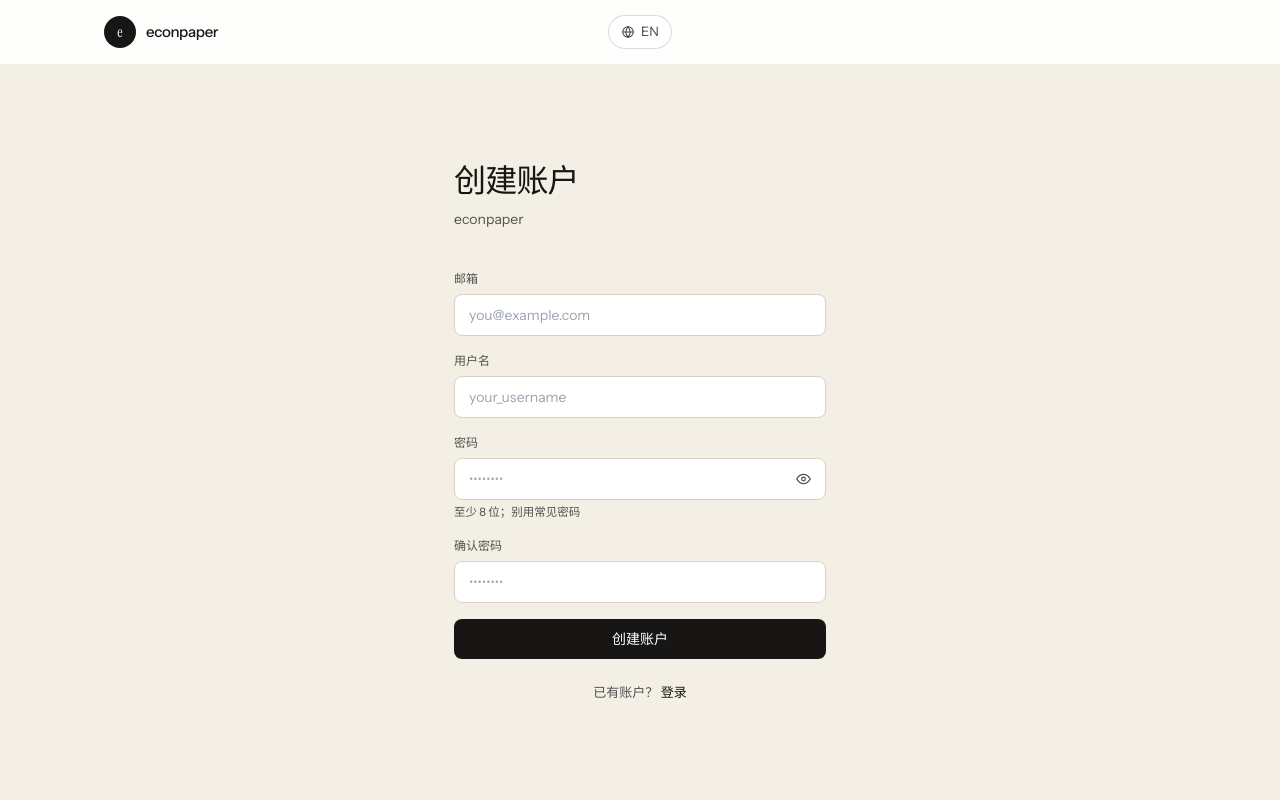
Scenario: RegisterPage › validates password match before submitting
Type "test@example.com" into the field labelled "邮箱" at (640, 315), box [454,294,826,336]
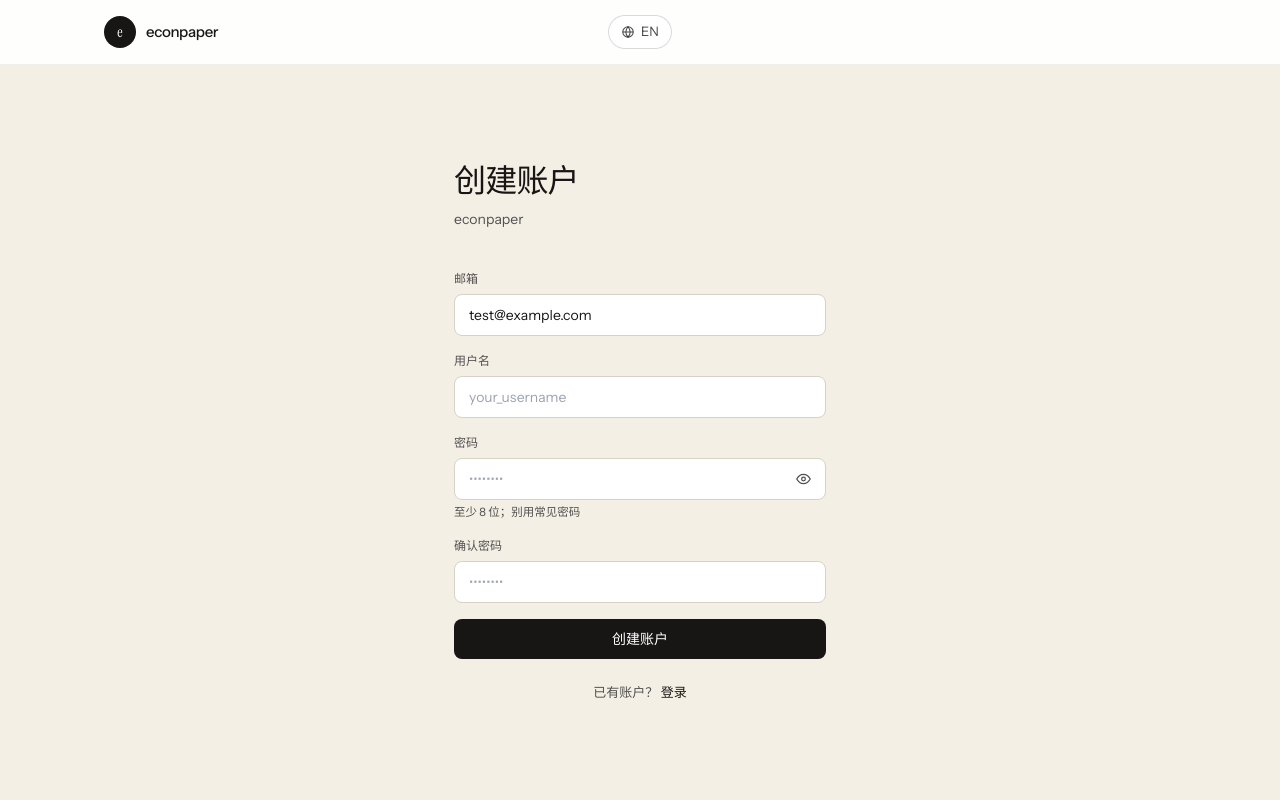
Type "testuser" into the field labelled "用户名" at (640, 397), box [454,376,826,418]
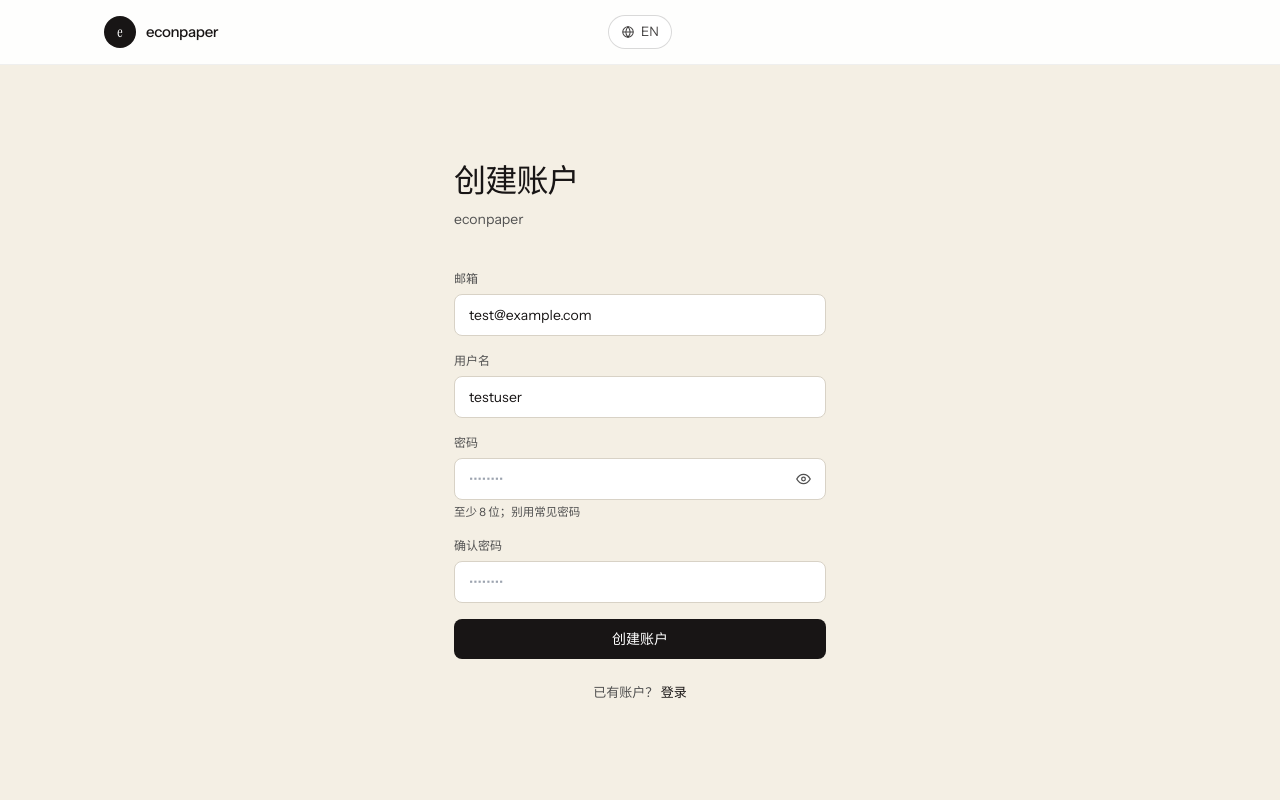
Type "secret123" into the password field labelled "密码" at (640, 479), box [454,458,826,500]
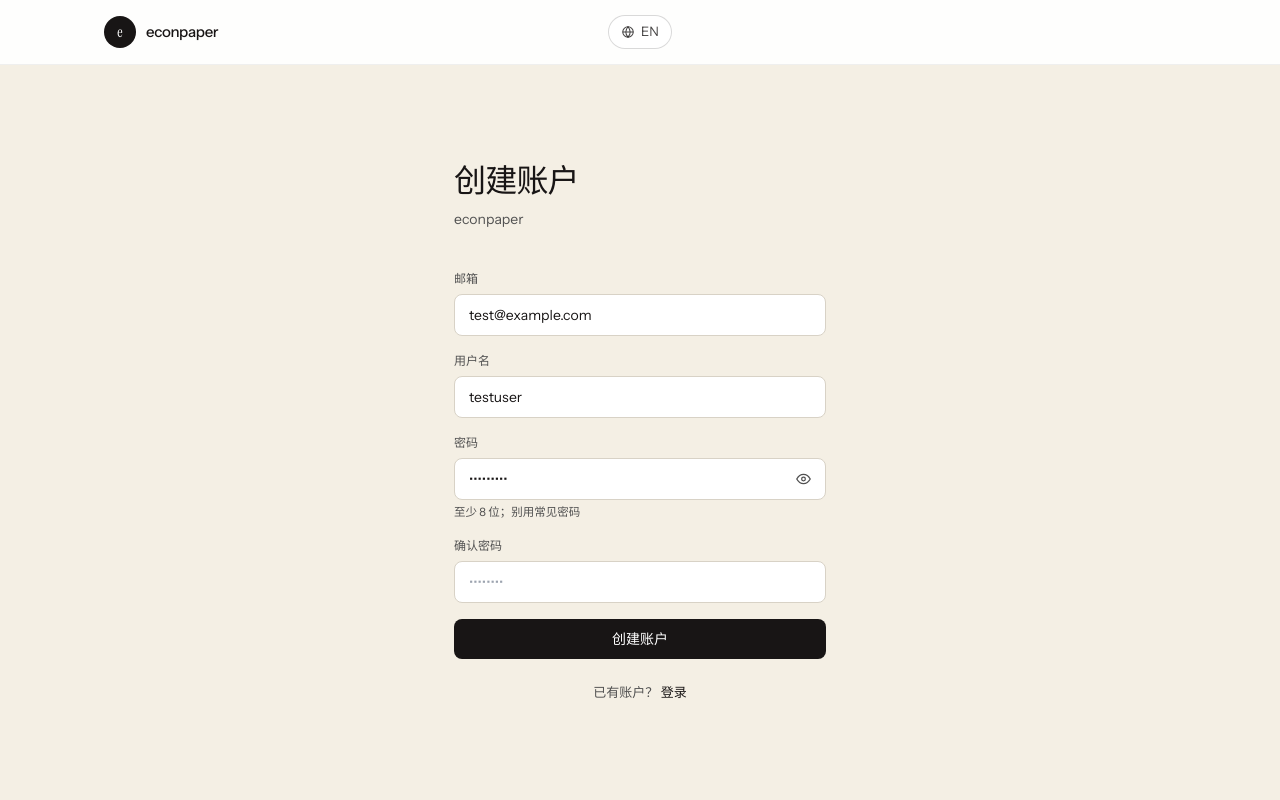
Type "different" into the password field labelled "确认密码" at (640, 582), box [454,561,826,603]
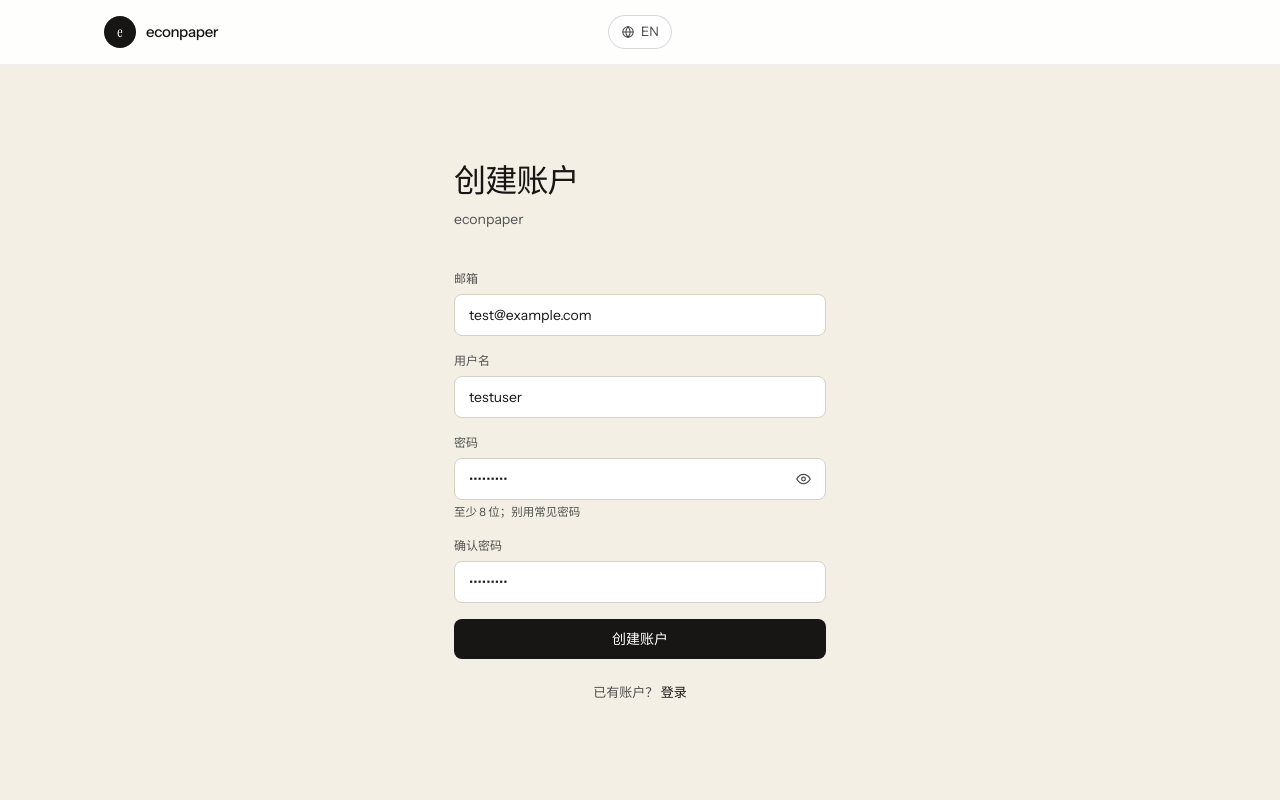
Click the button "创建账户" at (640, 639), box [454,619,826,659]
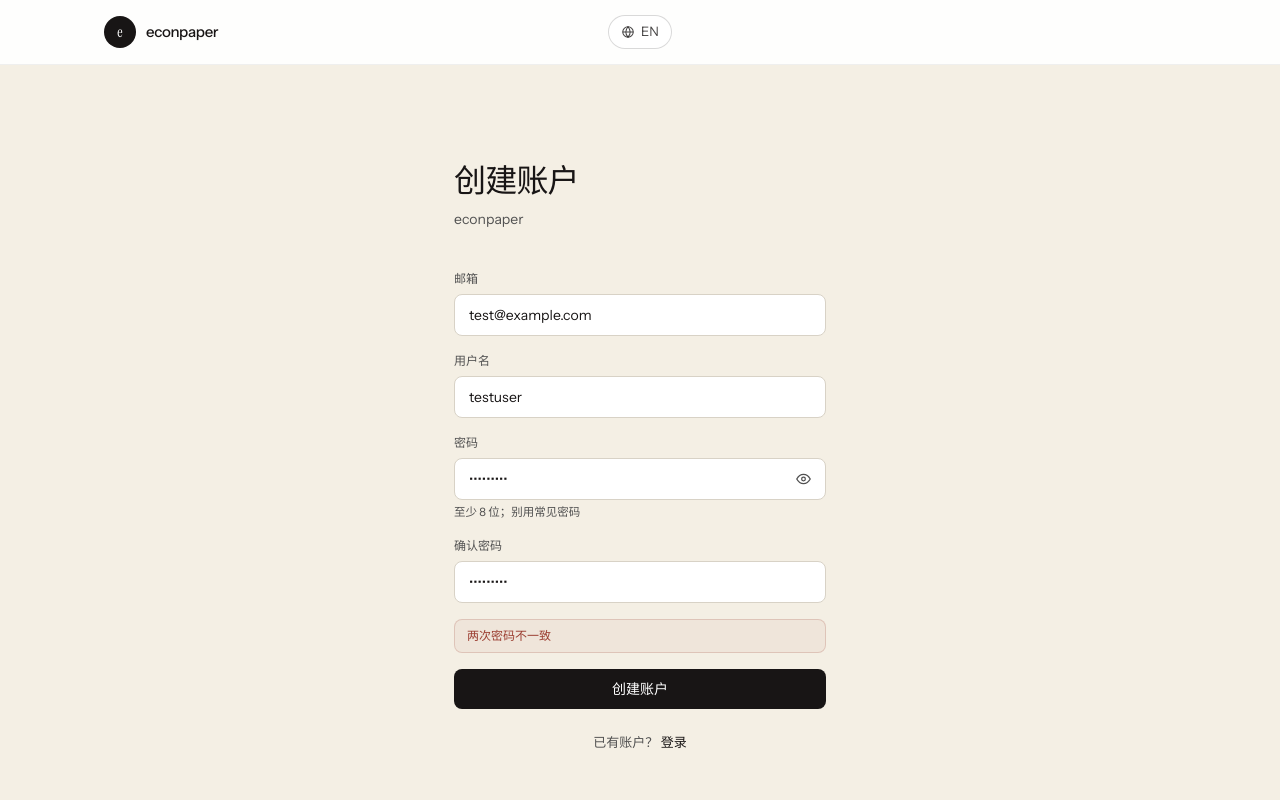
Check: the text "两次密码不一致" is shown, box [454,619,826,653]
